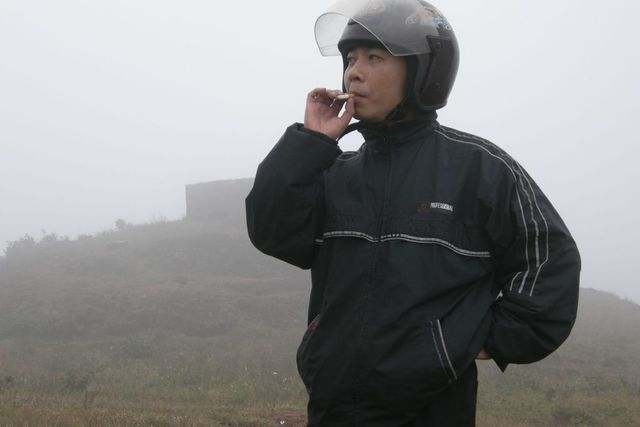helmet: (323, 9, 471, 101)
